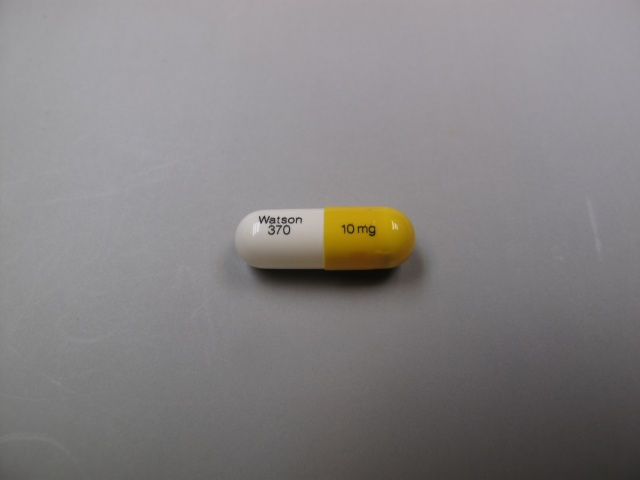capsule: (229, 202, 419, 275)
